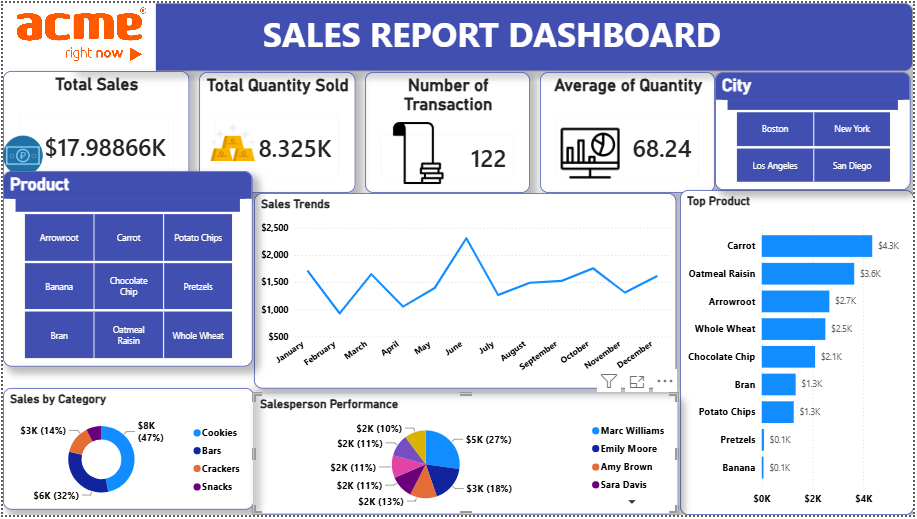

Layout of this report page (visuals, bound fields, positions):
{"tool":"powerbi","page":{"name":"Page 1","canvas":[1280,720],"ordinal":0},"visuals":[{"type":"textbox","box":[96,0,1183.8,95.9],"z":0},{"type":"image","box":[0,0,214.9,95.9],"z":1000},{"type":"cardVisual","title":"Total Sales","fields":{"Data":["Sum(Table1.TotalPrice)"]},"box":[0,96,262,170],"z":2000},{"type":"cardVisual","title":"Number of Transaction","fields":{"Data":["Table1.Transactions"]},"box":[508.9,96.4,232.1,169.6],"z":3000},{"type":"cardVisual","title":"Total Quantity Sold","fields":{"Data":["Sum(Table1.Quantity)"]},"box":[275,96.4,219.6,169.6],"z":4000},{"type":"cardVisual","title":"Average Transaction Value","fields":{"Data":["Avg(Table1.Quantity)"]},"box":[755.4,96.4,246.4,169.6],"z":5000},{"type":"image","box":[755.4,169.6,141.1,82.1],"z":6000},{"type":"image","box":[275,164.3,94.6,71.4],"z":7000},{"type":"image","box":[0,164,56,100],"z":8000},{"type":"image","box":[528.6,164.3,96.4,92.9],"z":9000},{"type":"donutChart","title":"Sales by Category","fields":{"Category":["Table1.Category"],"Y":["Sum(Table1.TotalPrice)"]},"box":[0,541.2,352.9,170.6],"z":10000},{"type":"lineChart","title":"Sales Trends","fields":{"Category":["Table1.OrderDate.Variation.Date Hierarchy.Month"],"Y":["Sum(Table1.TotalPrice)"]},"box":[352.9,266.7,594.2,275],"z":11000},{"type":"clusteredBarChart","title":"Top Product","fields":{"Category":["Table1.Product"],"Y":["Sum(Table1.TotalPrice)"]},"box":[951.8,262.5,329.4,456.9],"z":12000},{"type":"pieChart","title":"Salesperson Performance","fields":{"Category":["Table1.Salesperson"],"Y":["Sum(Table1.TotalPrice)"]},"box":[351.8,548.2,598,170.6],"z":13000},{"type":"slicer","title":"Product","fields":{"Values":["Table1.Product"]},"box":[0,266.1,351.2,275],"z":14000},{"type":"slicer","title":"City","fields":{"Values":["Table1.City"]},"box":[1001.8,96.4,275,166.1],"z":15000}]}

Visuals, with their boxes in screenshot pixels (x1, y1, x2, y2), scaled from the page's 1280x720 canvas onto the 917x519 screenshot:
textbox: 69 0 916 69
image: 0 0 154 69
"Total Sales" cardVisual: 0 69 188 192
"Number of Transaction" cardVisual: 365 69 531 192
"Total Quantity Sold" cardVisual: 197 69 354 192
"Average Transaction Value" cardVisual: 541 69 718 192
image: 541 122 642 181
image: 197 118 265 170
image: 0 118 40 190
image: 379 118 448 185
"Sales by Category" donutChart: 0 390 253 513
"Sales Trends" lineChart: 253 192 679 390
"Top Product" clusteredBarChart: 682 189 916 518
"Salesperson Performance" pieChart: 252 395 680 518
"Product" slicer: 0 192 252 390
"City" slicer: 718 69 915 189
